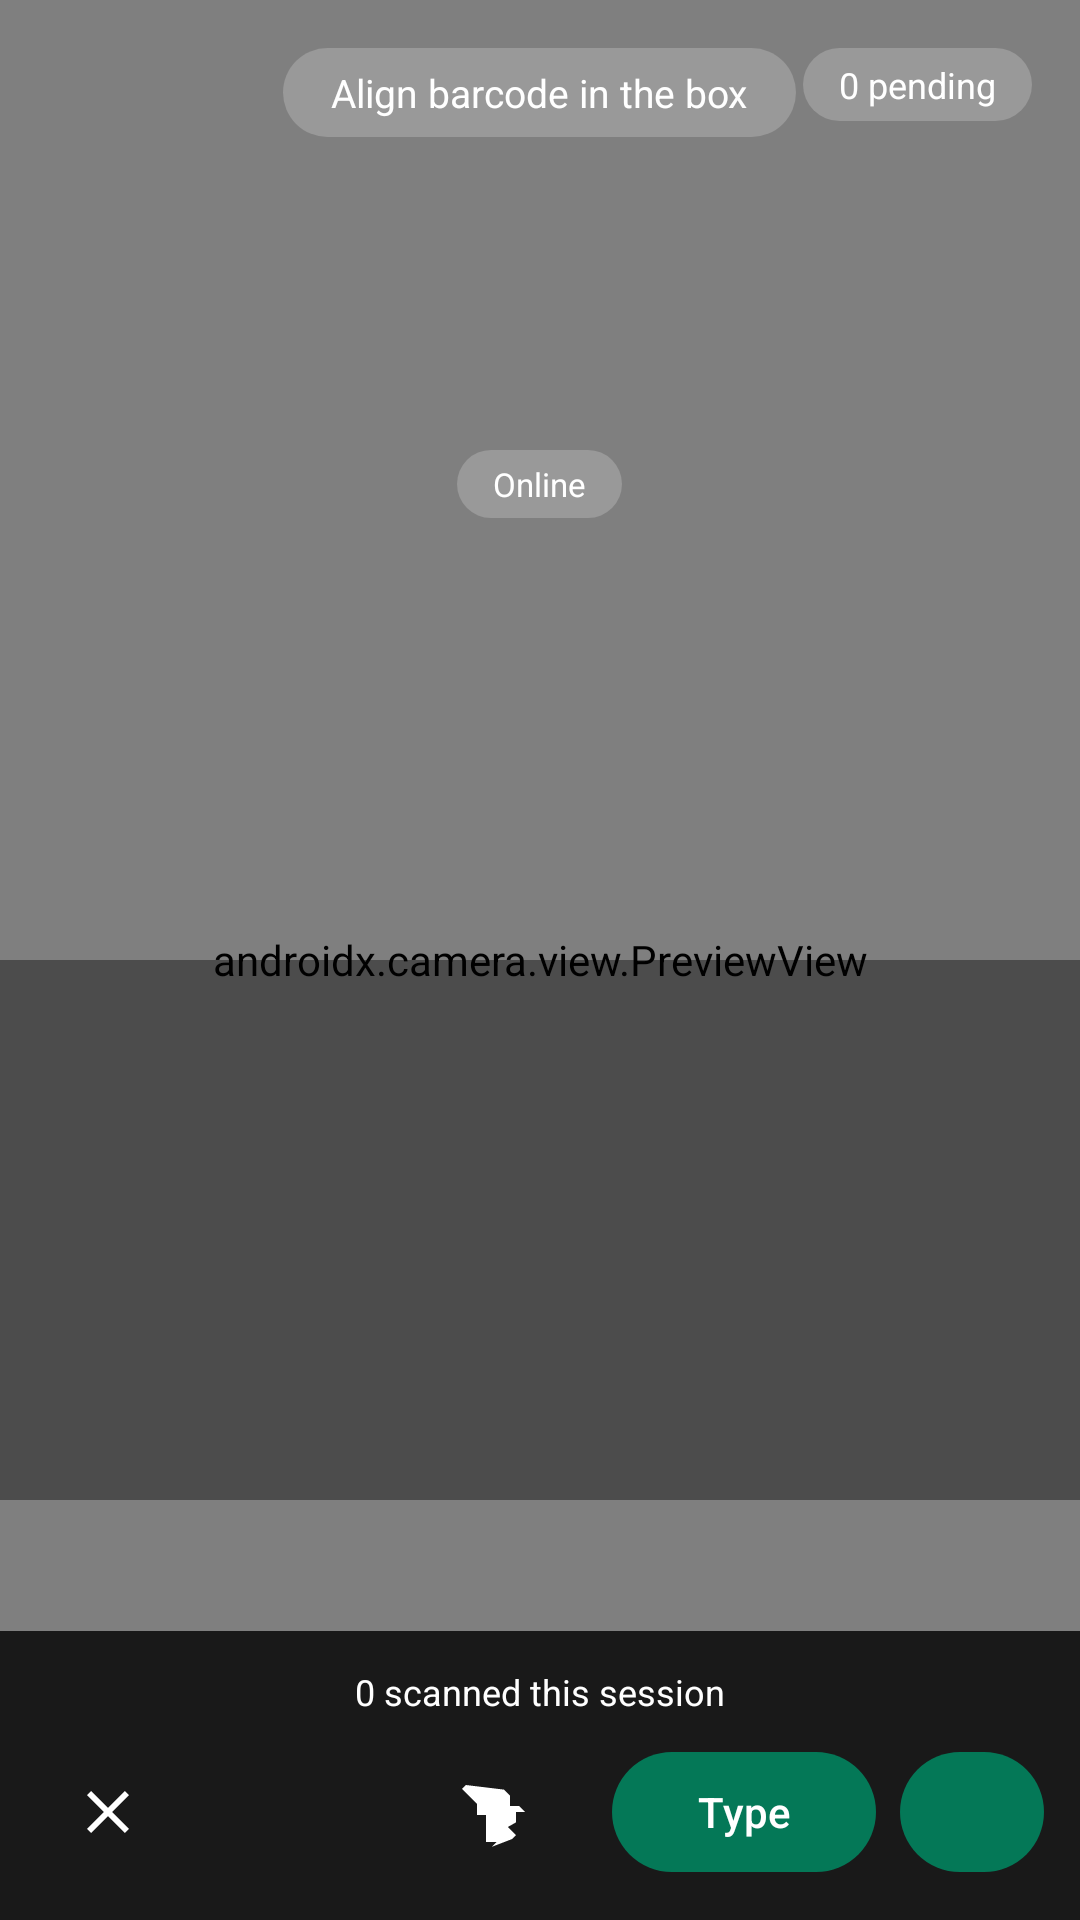

Where icons sit on this 1080 x 1920 app screen, as (x1, y1, x2, y2):
Close: (87, 1791, 129, 1833)
